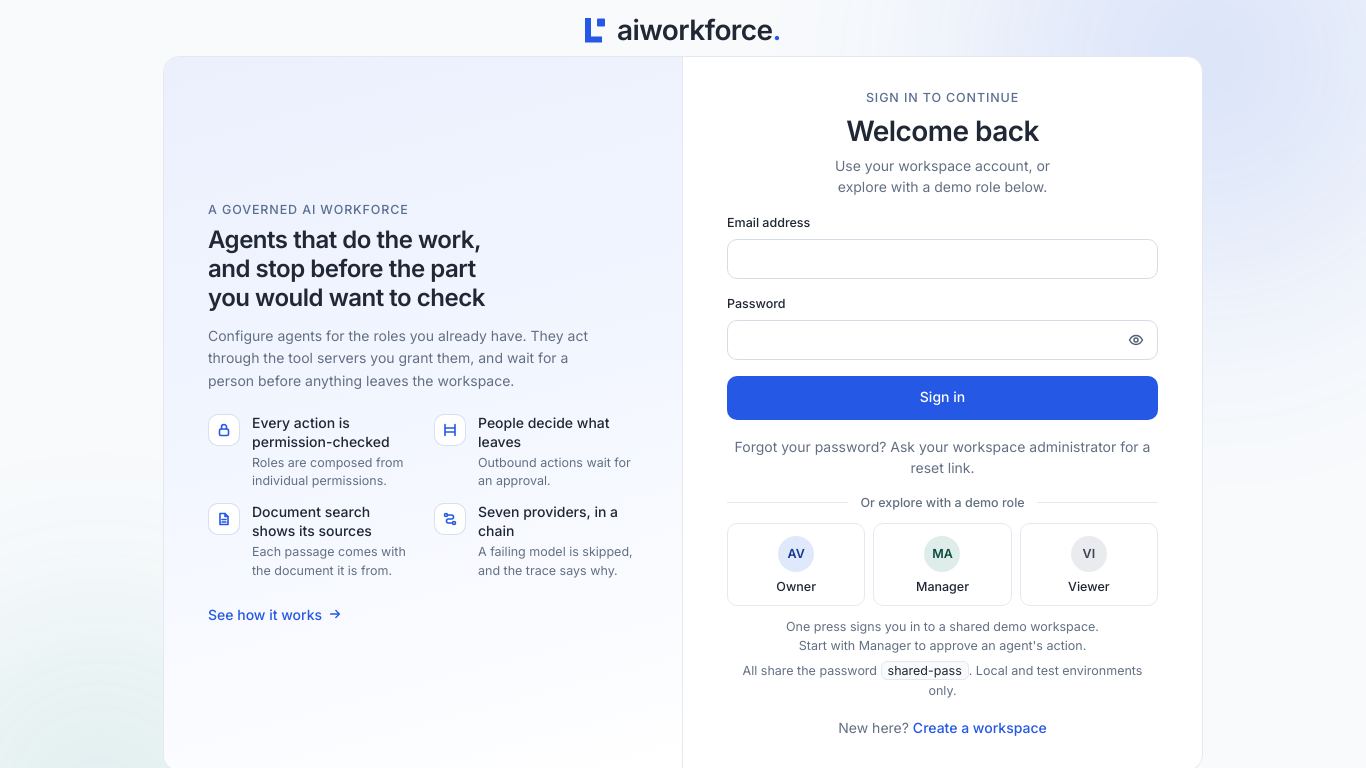
it: SignIn › says why a sign-in failed and puts focus back in the password, selected
Type "owner@demo.test" into the field labelled "Email address" at (942, 259), box top-left (727, 239), bottom-right (1158, 279)
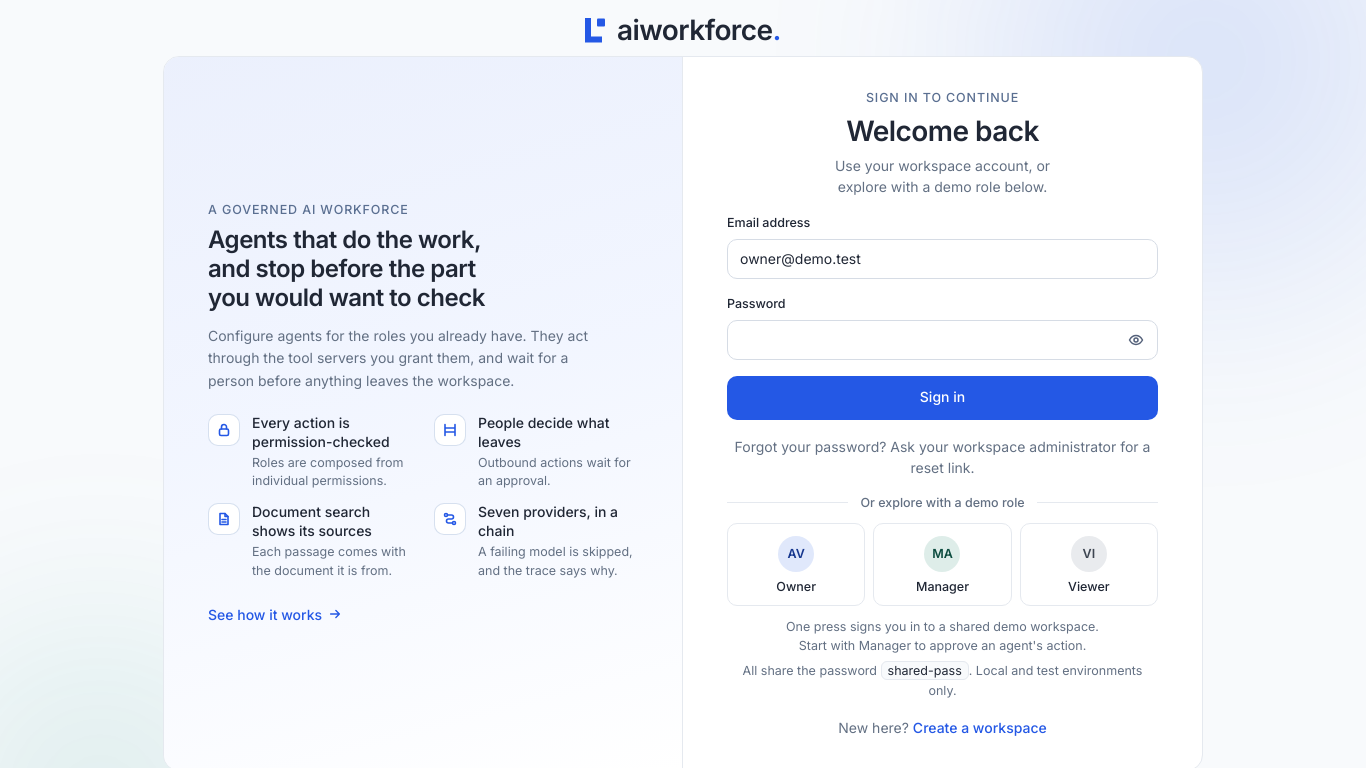
Type "wrong" into the password field labelled "Password" at (942, 340), box top-left (727, 320), bottom-right (1158, 360)
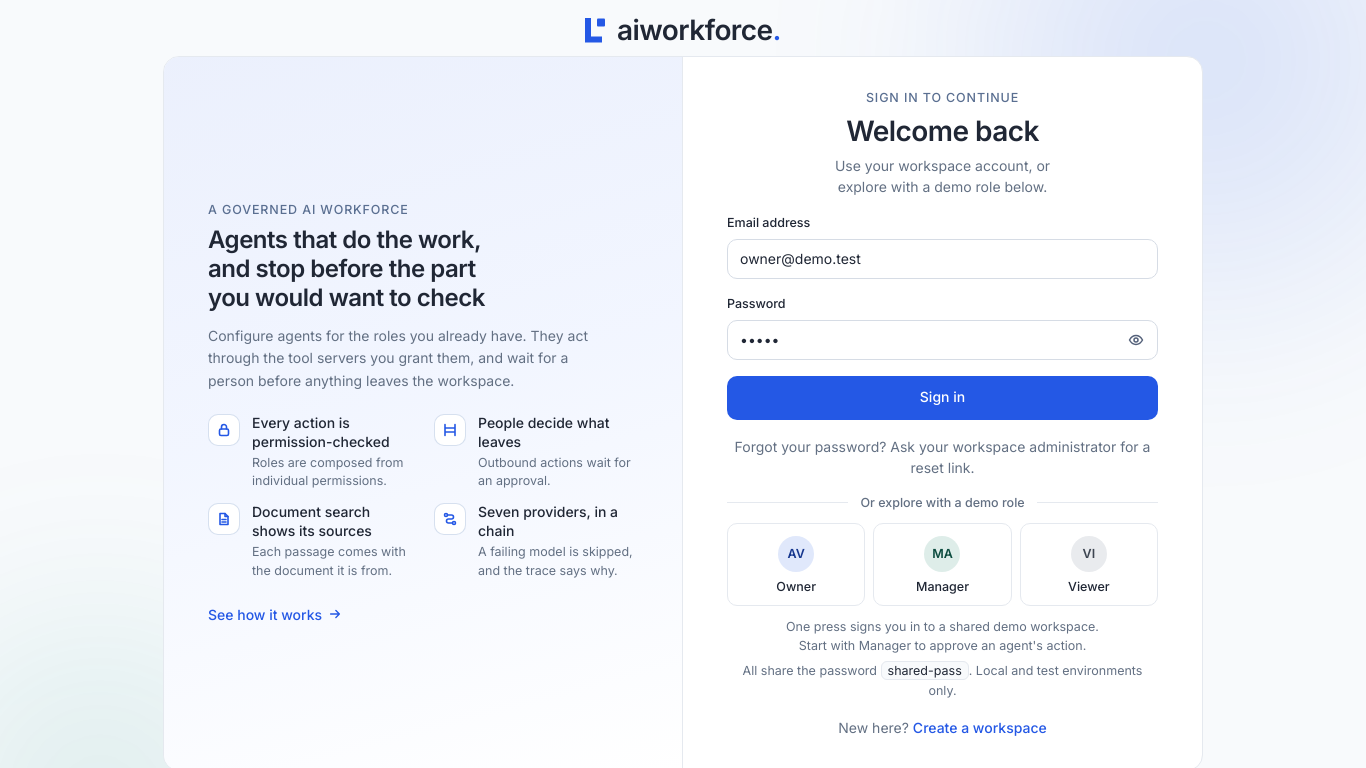
Click the button "Sign in" at (942, 398), box top-left (727, 376), bottom-right (1158, 420)
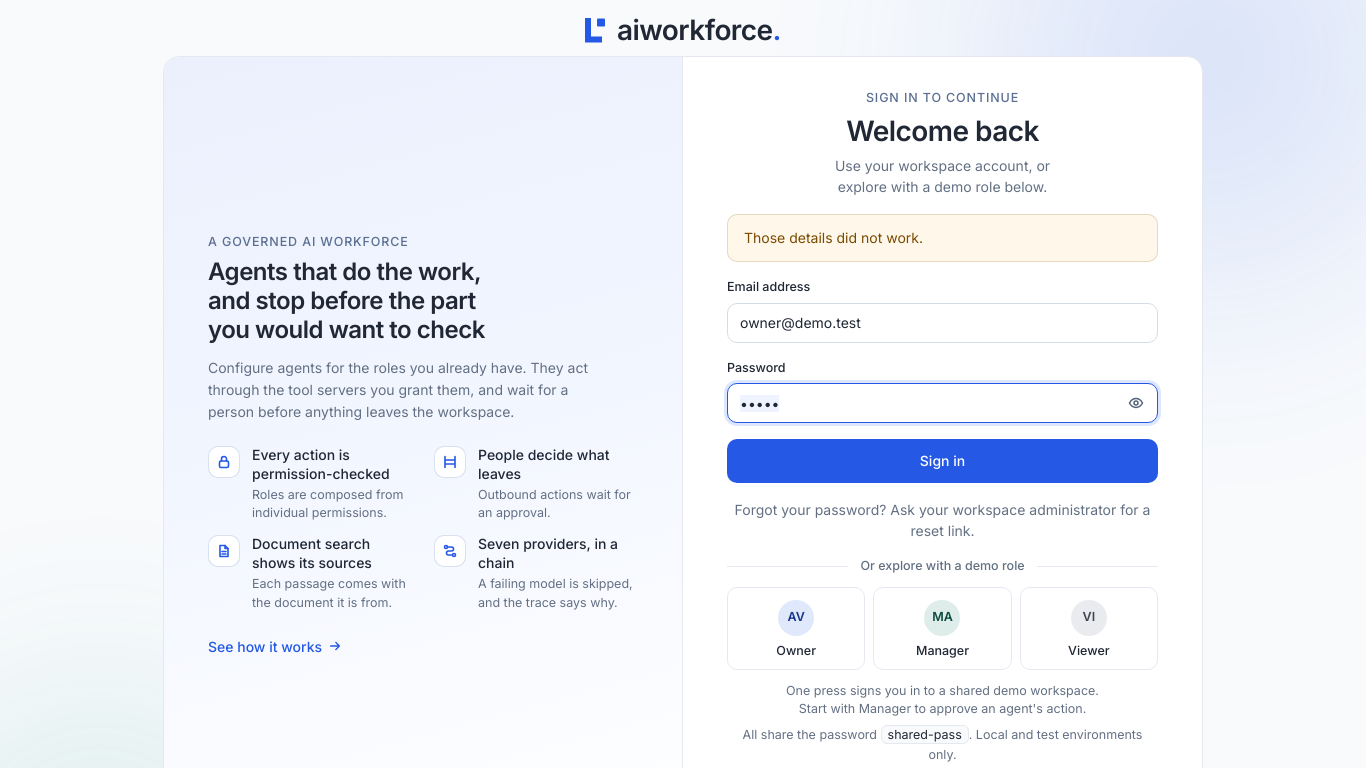
expect the text "Those details did not work." is shown: met, box top-left (744, 229), bottom-right (923, 246)
